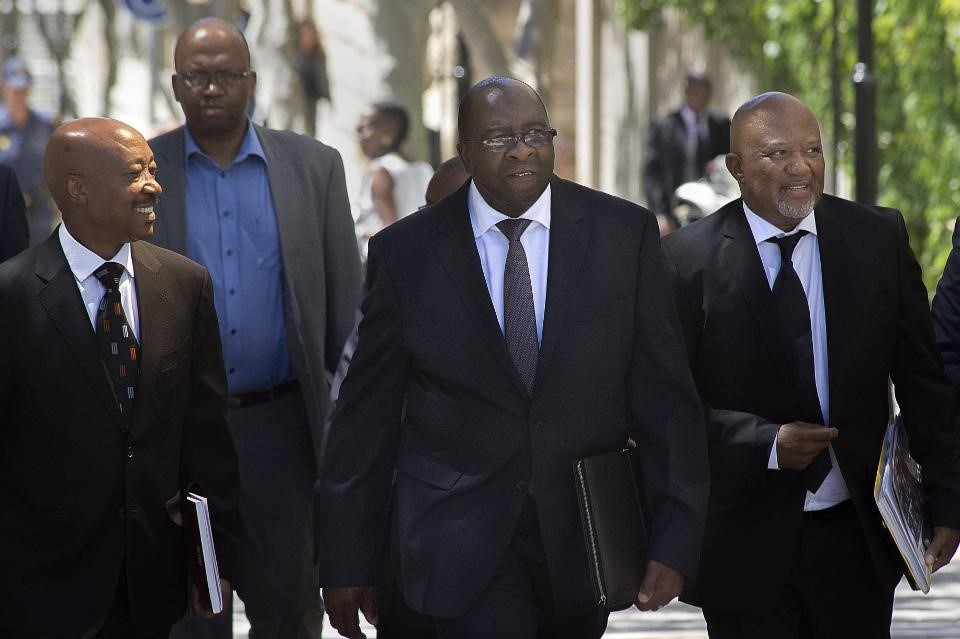face_no_mask: (47, 116, 160, 242), (722, 91, 826, 216), (458, 73, 553, 205), (167, 23, 261, 137)
